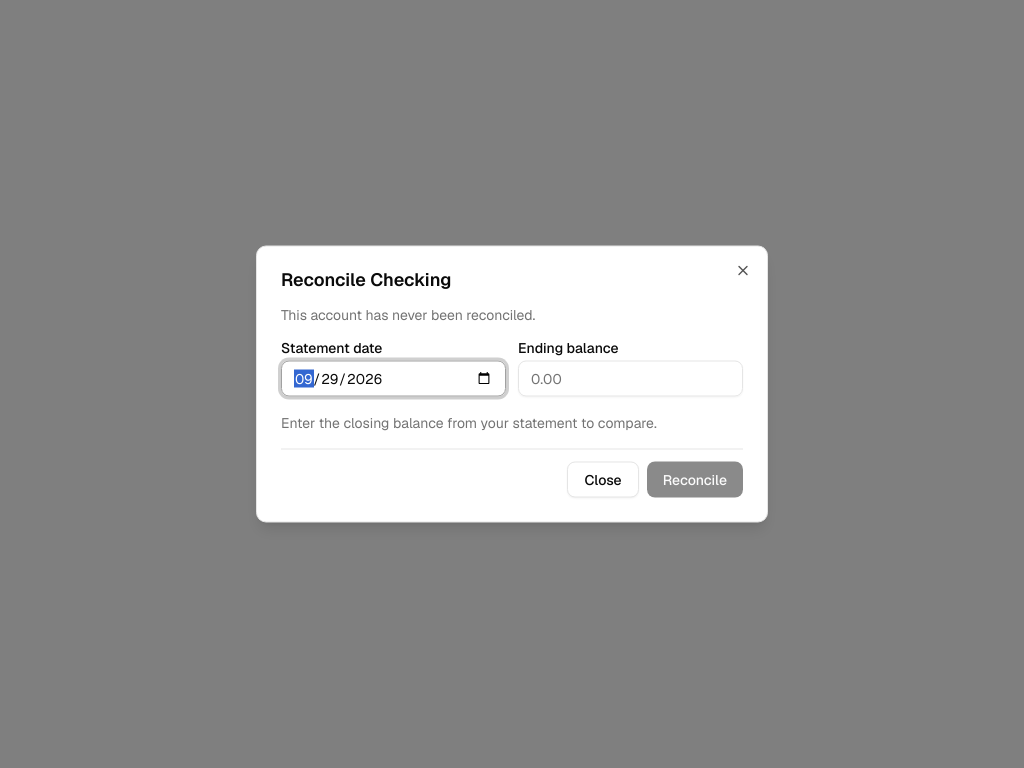
it: <ReconcileDialog /> › says nothing rather than inventing a lead
Step 1. Type "1007.13" into the number field labelled "Ending balance" → x=630, y=378, box top-left (518, 360), bottom-right (743, 396)
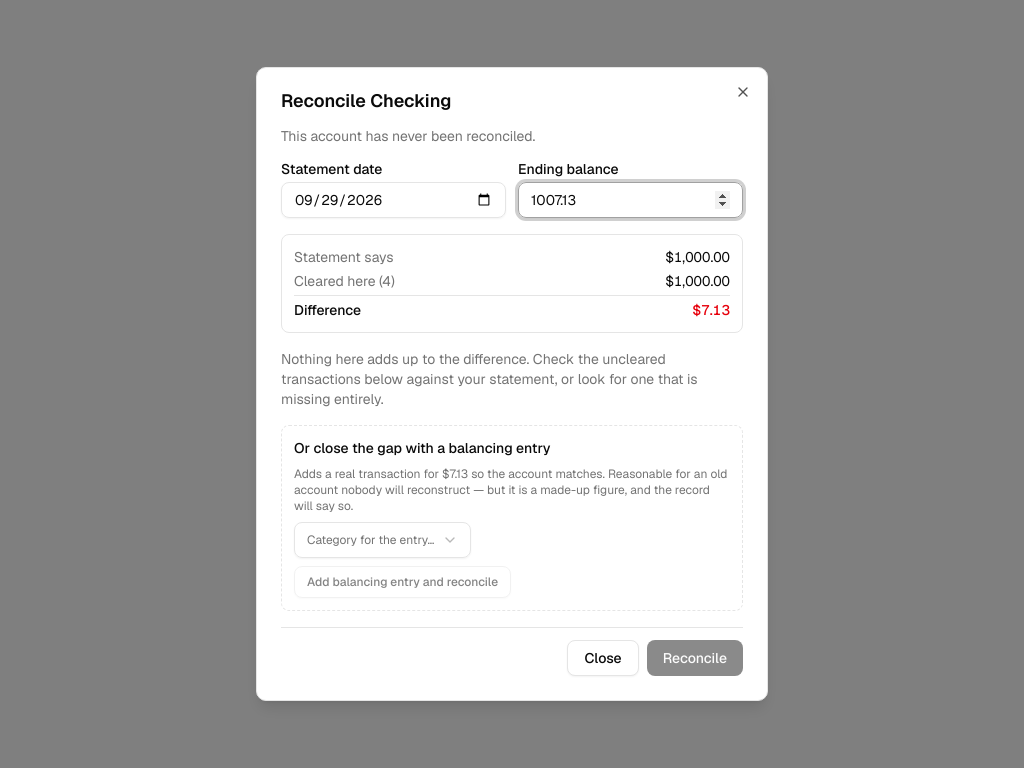
expect the text "Nothing here adds up to the difference" is shown: met, box top-left (281, 350), bottom-right (698, 408)
